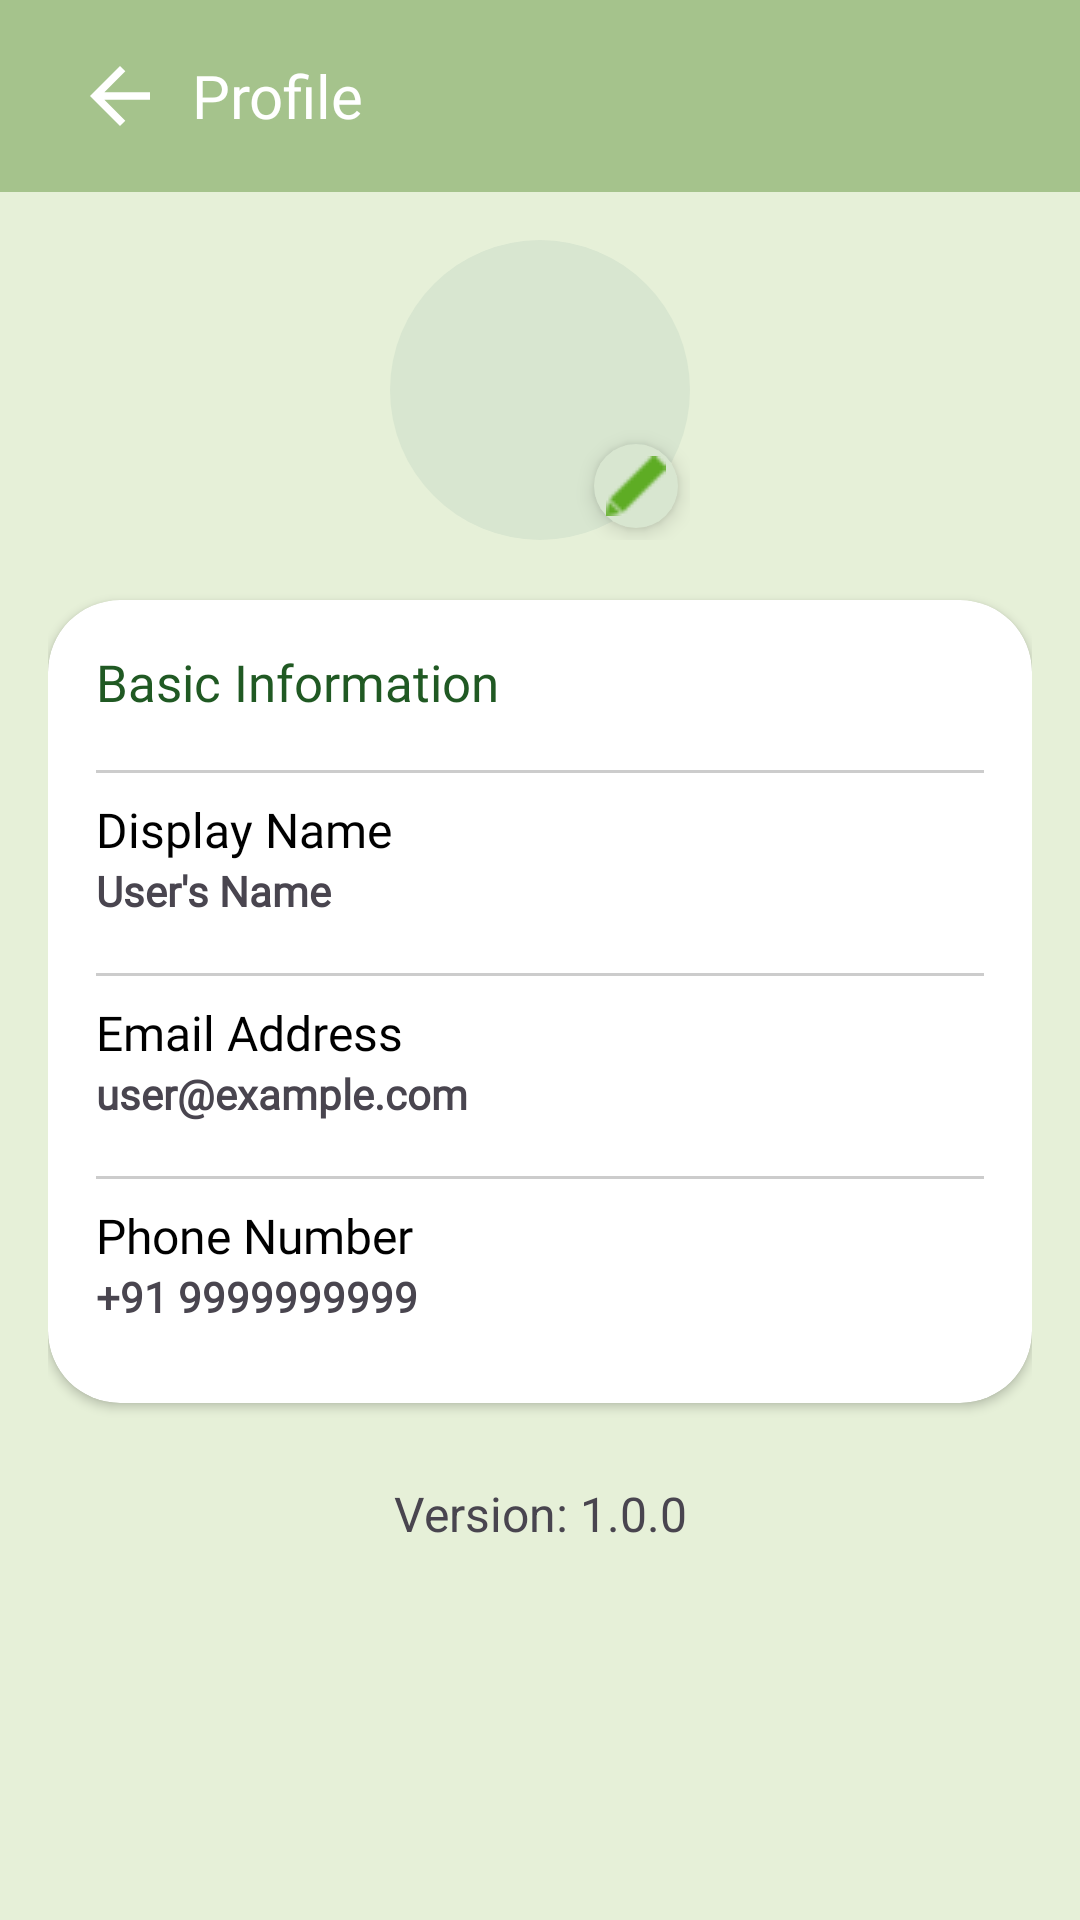

Icons on this 1080×1920 Android screen, each with the point to tap as [x,y]:
Back: [120,96]
edit: [636,486]
